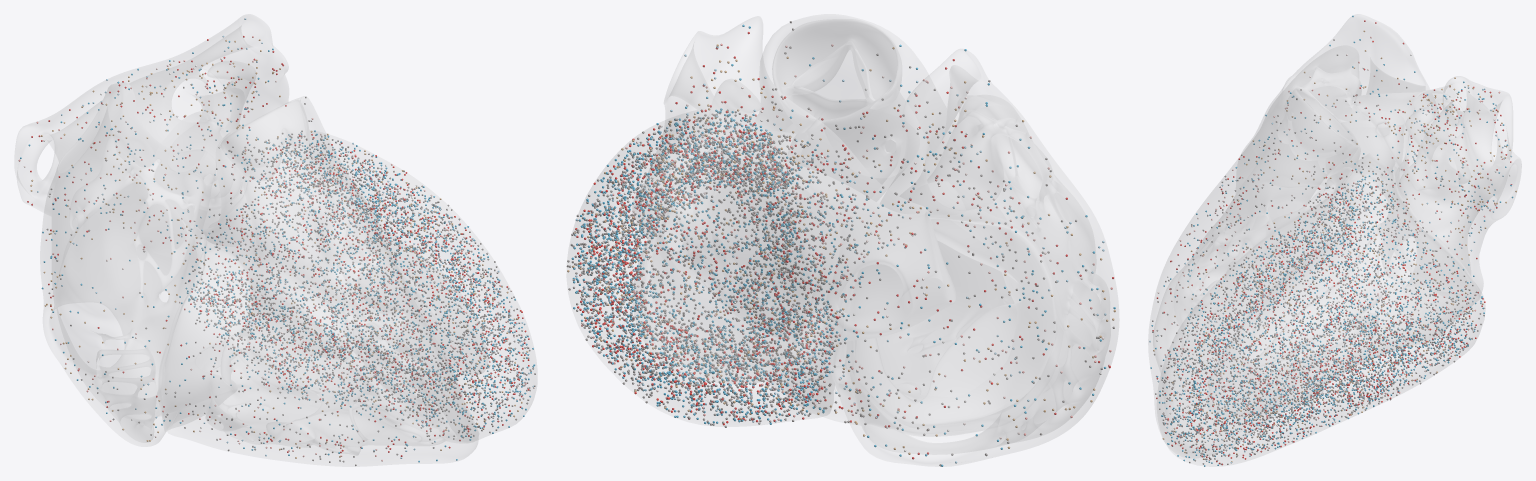
The model's file is 3d-vh-m-heart-UBERON_0000948-all-as-azimuth-sphere-hra-pop.glb.
3 renders of one model, left to right at view 1: azimuth 30°, elevation 25°; view 2: azimuth 150°, elevation 25°; view 3: azimuth 270°, elevation 25°, orthographic. The views are drawn at different scales.
Visible parts, largest first — view 1: VH_M_heart_right_ventricle, VH_M_right_cardiac_atrium, VH_M_left_cardiac_atrium, VH_M_heart_left_ventricle, VH_M_tricuspid_valve, VH_M_pulmonary_valve, VH_M_aortic_valve, VH_M_papillary_muscle_of_heart_anterior, VH_M_interventricular_septum; view 2: VH_M_right_cardiac_atrium, VH_M_left_cardiac_atrium, VH_M_heart_right_ventricle, VH_M_mitral_valve, VH_M_heart_left_ventricle, VH_M_pulmonary_valve, VH_M_tricuspid_valve, VH_M_aortic_valve, VH_M_papillary_muscle_of_heart_posteromedial; view 3: VH_M_heart_left_ventricle, VH_M_heart_right_ventricle, VH_M_left_cardiac_atrium, VH_M_right_cardiac_atrium, VH_M_pulmonary_valve, VH_M_papillary_muscle_of_heart_anterolateral, VH_M_mitral_valve, VH_M_interventricular_septum, VH_M_aortic_valve, VH_M_papillary_muscle_of_heart_posteromedial, VH_M_tricuspid_valve.
Part boxes in pixels (x1=…): VH_M_heart_right_ventricle: x1=163, y1=96, x2=478, y2=466; VH_M_right_cardiac_atrium: x1=40, y1=83, x2=215, y2=446; VH_M_left_cardiac_atrium: x1=15, y1=14, x2=288, y2=215; VH_M_heart_left_ventricle: x1=196, y1=131, x2=536, y2=442; VH_M_tricuspid_valve: x1=157, y1=242, x2=251, y2=431; VH_M_pulmonary_valve: x1=221, y1=100, x2=308, y2=180; VH_M_aortic_valve: x1=167, y1=116, x2=240, y2=209; VH_M_papillary_muscle_of_heart_anterior: x1=284, y1=356, x2=366, y2=398; VH_M_interventricular_septum: x1=209, y1=194, x2=478, y2=442; VH_M_right_cardiac_atrium: x1=827, y1=49, x2=1118, y2=466; VH_M_left_cardiac_atrium: x1=632, y1=16, x2=955, y2=383; VH_M_heart_right_ventricle: x1=756, y1=14, x2=1023, y2=436; VH_M_mitral_valve: x1=643, y1=185, x2=822, y2=382; VH_M_heart_left_ventricle: x1=567, y1=110, x2=833, y2=426; VH_M_pulmonary_valve: x1=772, y1=19, x2=901, y2=119; VH_M_tricuspid_valve: x1=853, y1=219, x2=1016, y2=432; VH_M_aortic_valve: x1=788, y1=113, x2=902, y2=201; VH_M_papillary_muscle_of_heart_posteromedial: x1=695, y1=262, x2=735, y2=312; VH_M_heart_left_ventricle: x1=1157, y1=153, x2=1484, y2=466; VH_M_heart_right_ventricle: x1=1148, y1=86, x2=1360, y2=457; VH_M_left_cardiac_atrium: x1=1355, y1=76, x2=1521, y2=292; VH_M_right_cardiac_atrium: x1=1236, y1=14, x2=1437, y2=190; VH_M_pulmonary_valve: x1=1278, y1=88, x2=1358, y2=174; VH_M_papillary_muscle_of_heart_anterolateral: x1=1255, y1=234, x2=1384, y2=366; VH_M_mitral_valve: x1=1381, y1=166, x2=1480, y2=303; VH_M_interventricular_septum: x1=1174, y1=167, x2=1388, y2=390; VH_M_aortic_valve: x1=1337, y1=119, x2=1403, y2=187; VH_M_papillary_muscle_of_heart_posteromedial: x1=1260, y1=313, x2=1378, y2=374; VH_M_tricuspid_valve: x1=1252, y1=189, x2=1319, y2=229.
Size of the model in its own units: 0.1244 by 0.1054 by 0.1052.
